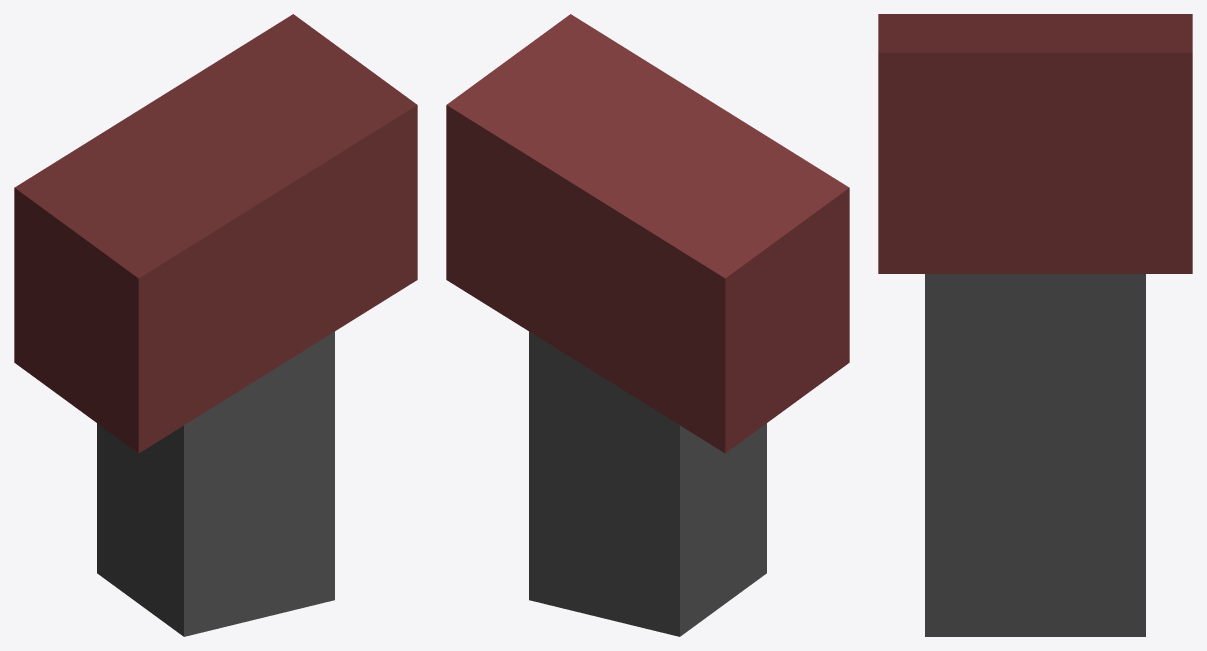
Rendered from BossMechUpperArmLeft.gltf.
The picture shows the model from 3 angles, left to right: view 1: azimuth 30°, elevation 25°; view 2: azimuth 150°, elevation 25°; view 3: azimuth 270°, elevation 25°; orthographic projection. The views are drawn at different scales.
Parts seen in each view (by area): view 1: 立方体.014; view 2: 立方体.014; view 3: 立方体.014.
Part boxes in pixels (x1,y1,x2,y2): 立方体.014: (14,14,417,636); 立方体.014: (446,14,849,636); 立方体.014: (878,14,1192,636).
Size of the model in its own units: 0.7382 by 1.25 by 0.5693.
